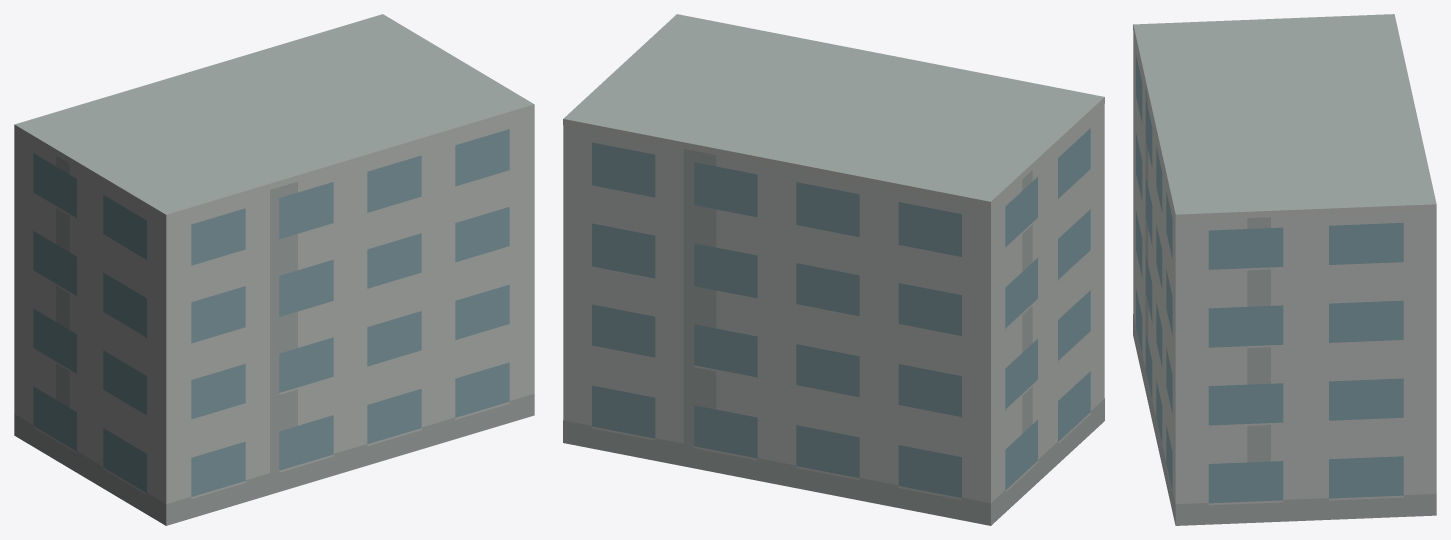
The model's file is residential-ce1e186c-88be-454d-865b-4837bcc06f89.glb.
3 views of the same model, side by side, from view 1: azimuth 30°, elevation 25°; view 2: azimuth 150°, elevation 25°; view 3: azimuth 270°, elevation 25° (orthographic). The views are drawn at different scales.
Visible parts, largest first — view 1: residential-ce1e186c-88be-454d-865b-4837bcc06f89.tmp; view 2: residential-ce1e186c-88be-454d-865b-4837bcc06f89.tmp; view 3: residential-ce1e186c-88be-454d-865b-4837bcc06f89.tmp.
Part boxes in pixels (x1,y1,x2,y2): residential-ce1e186c-88be-454d-865b-4837bcc06f89.tmp: (14, 14, 534, 525); residential-ce1e186c-88be-454d-865b-4837bcc06f89.tmp: (563, 14, 1104, 525); residential-ce1e186c-88be-454d-865b-4837bcc06f89.tmp: (1133, 14, 1436, 525).
Bounding box in the file's own units: 16.59 × 12 × 10.61.
